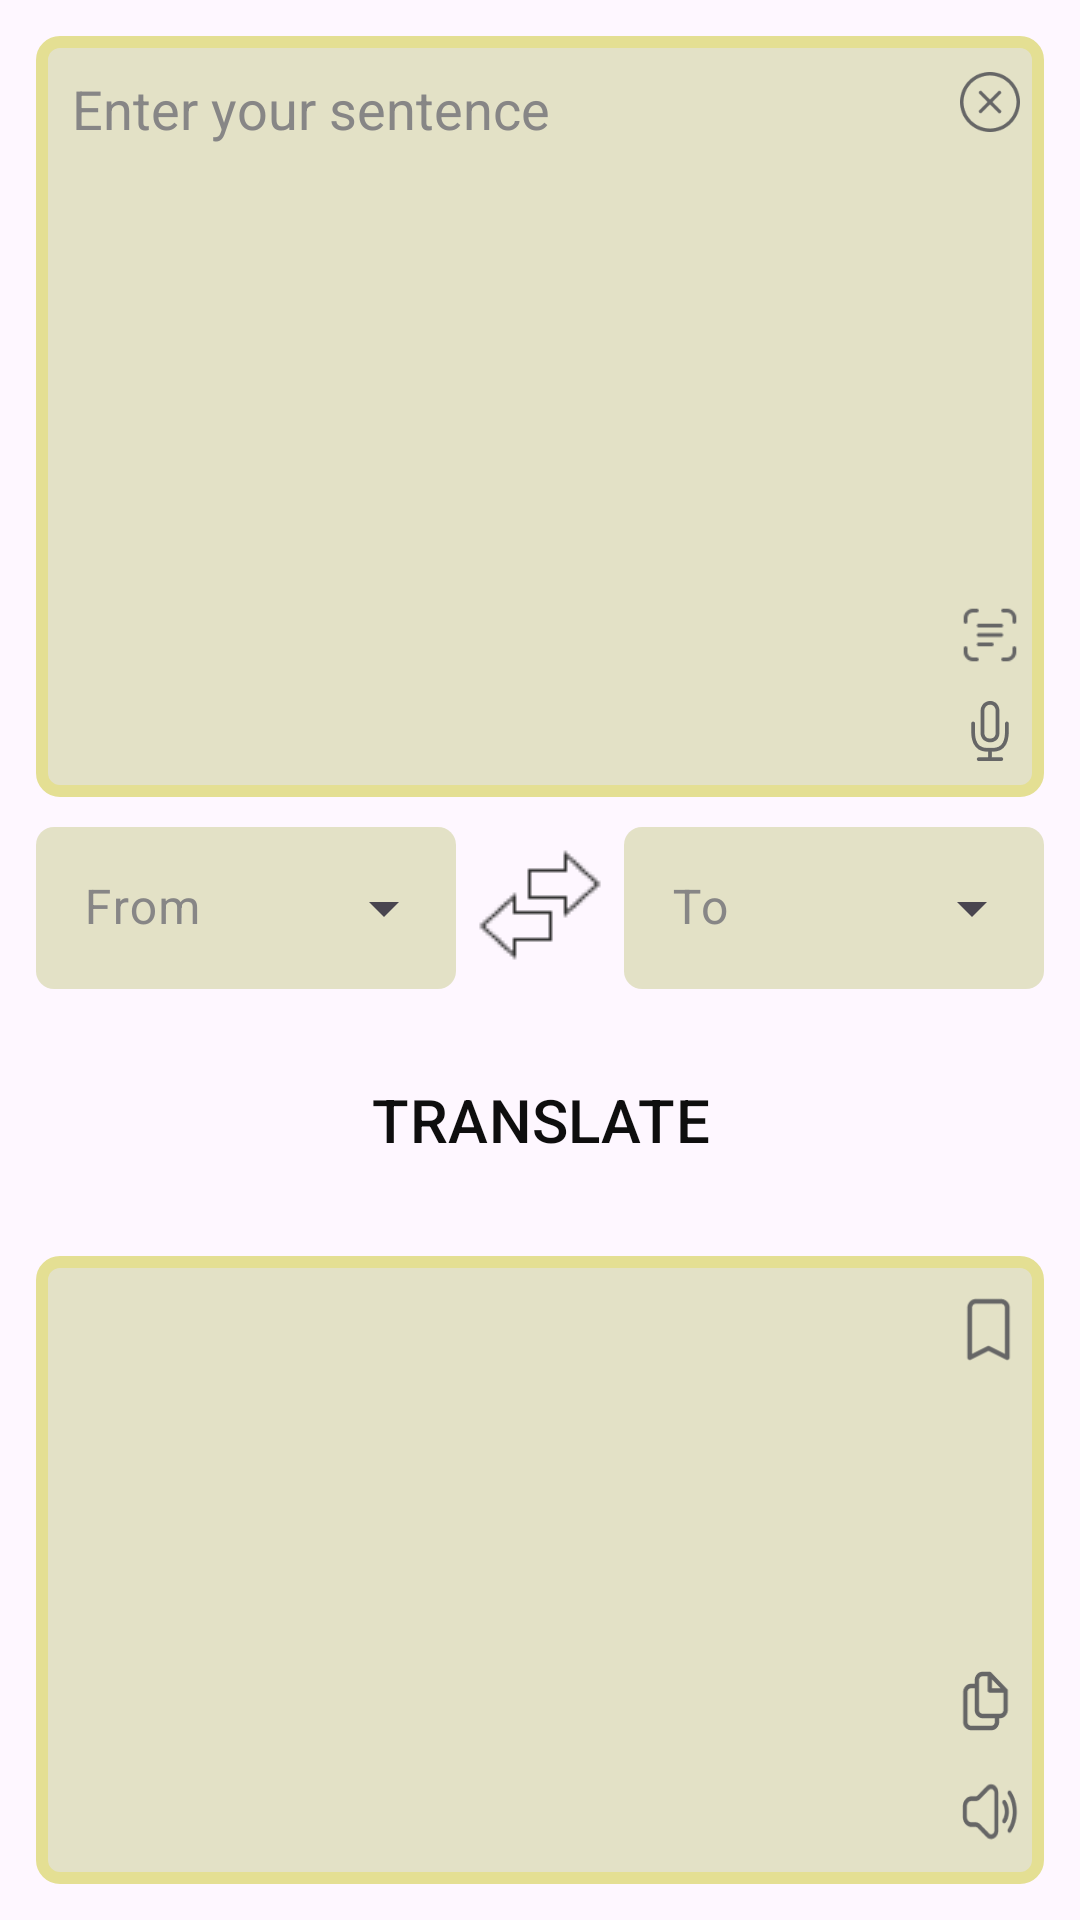

Locate icon controls on the screen. Image size 1080 × 1920, boxes as [x1, y1, x2, y2].
copie: [963, 1671, 1008, 1731]
esc: [960, 72, 1020, 132]
microphone: [971, 701, 1009, 761]
save: [967, 1299, 1010, 1360]
scan: [963, 608, 1017, 662]
tauschen: [479, 850, 601, 960]
volume: [962, 1784, 1017, 1840]
